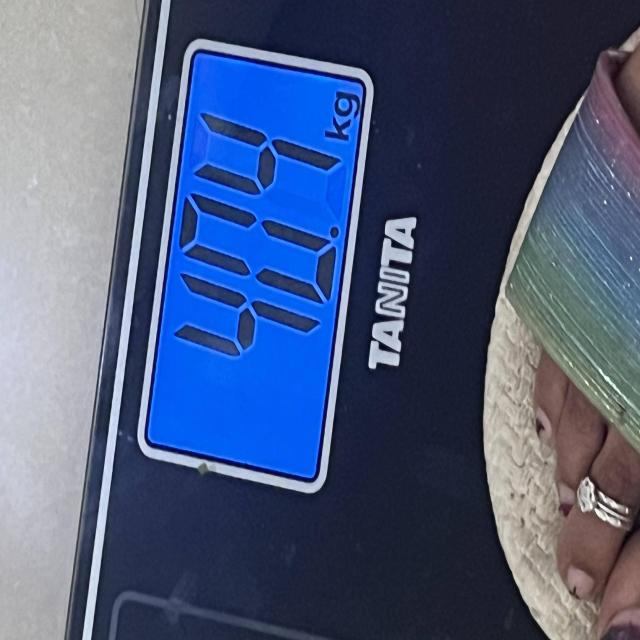ws: (133, 40, 375, 499)
